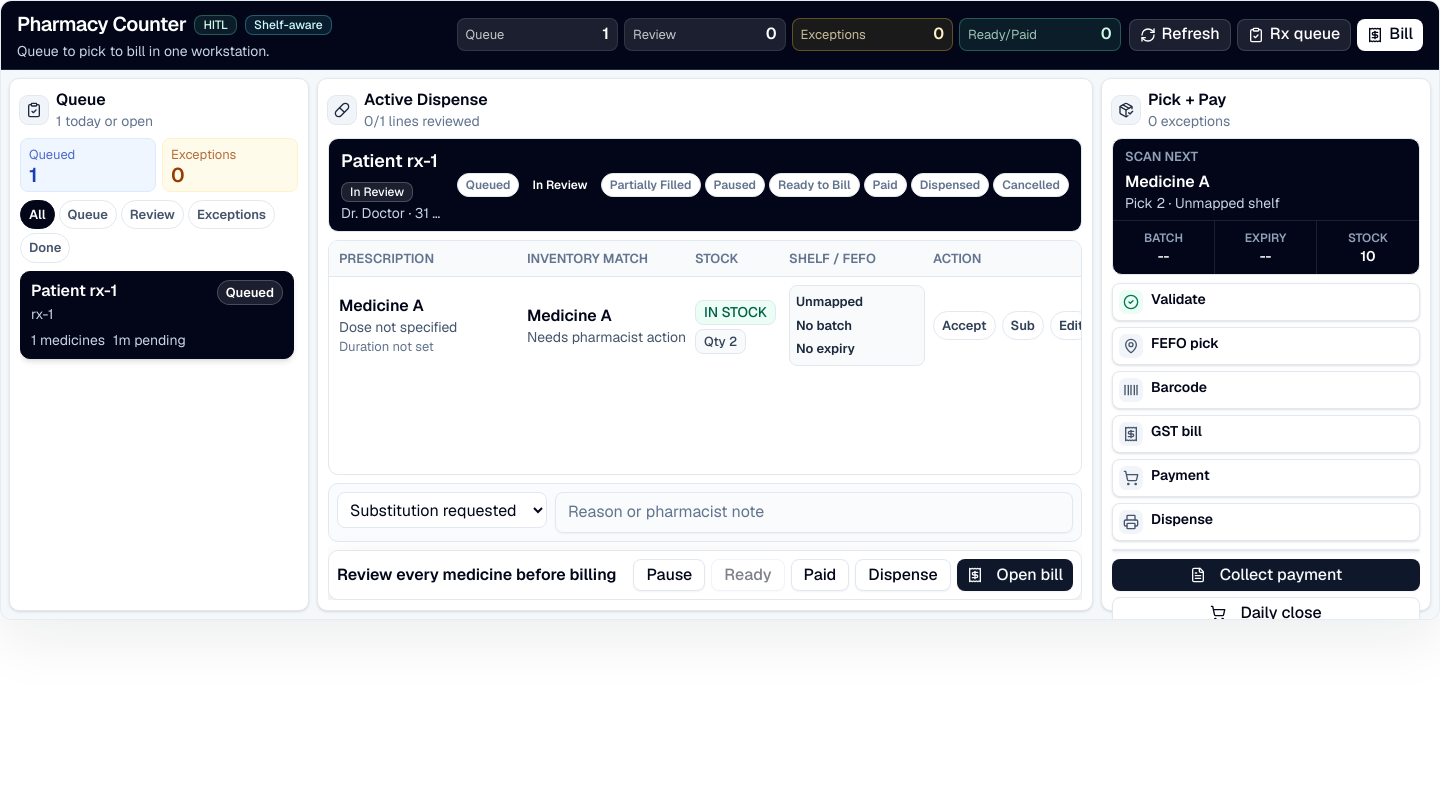
Test: shows a retryable error when refreshed stock cannot be read
This screenshot has width=1440, height=810.
Click the button "Refresh" at (1180, 35), box [1129,19,1231,51]
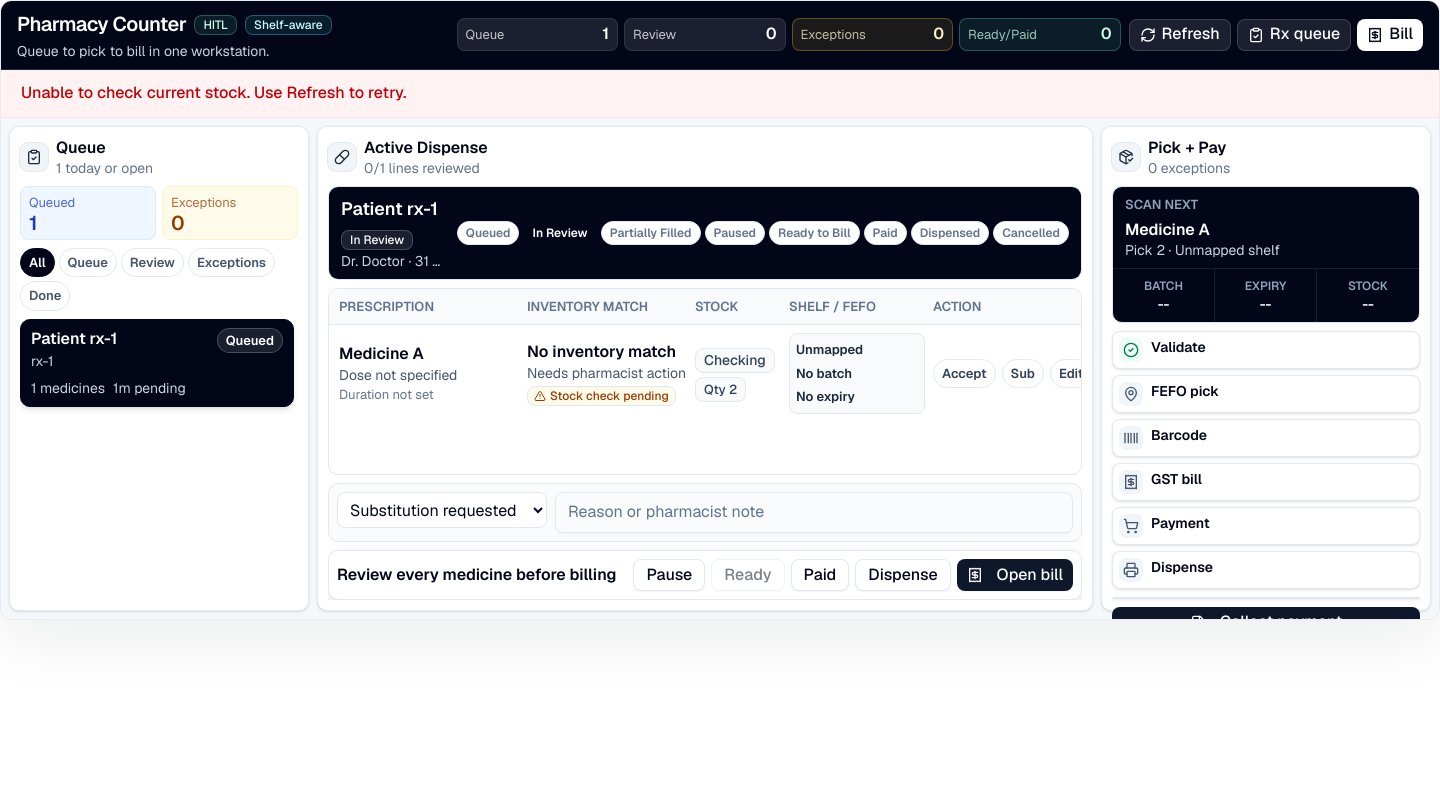
Expected: the text "10 available" is not shown
Now the message reads "Unable to check current stock. Use Refresh to retry.", box [21,82,406,103]
